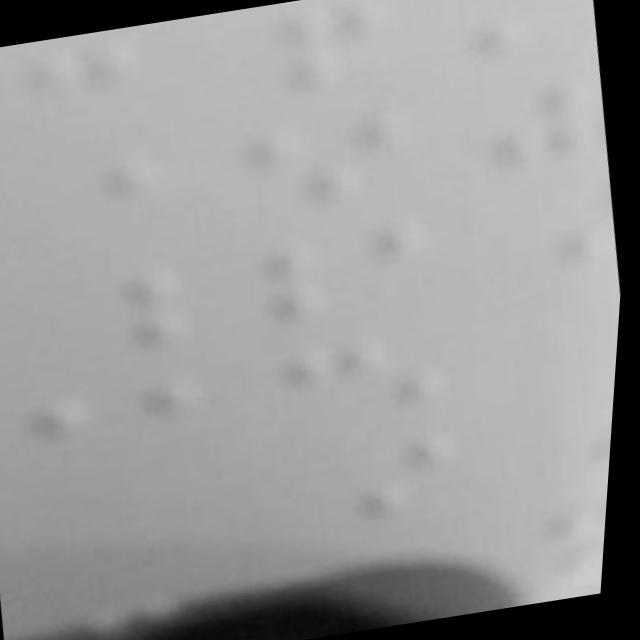braiile: (0, 262, 209, 384), (12, 369, 224, 489), (266, 320, 463, 444), (238, 103, 434, 226), (278, 424, 478, 542), (256, 208, 449, 330), (0, 154, 187, 276), (0, 40, 170, 166), (229, 0, 416, 101), (484, 174, 627, 290), (476, 64, 615, 176), (520, 373, 620, 488)
